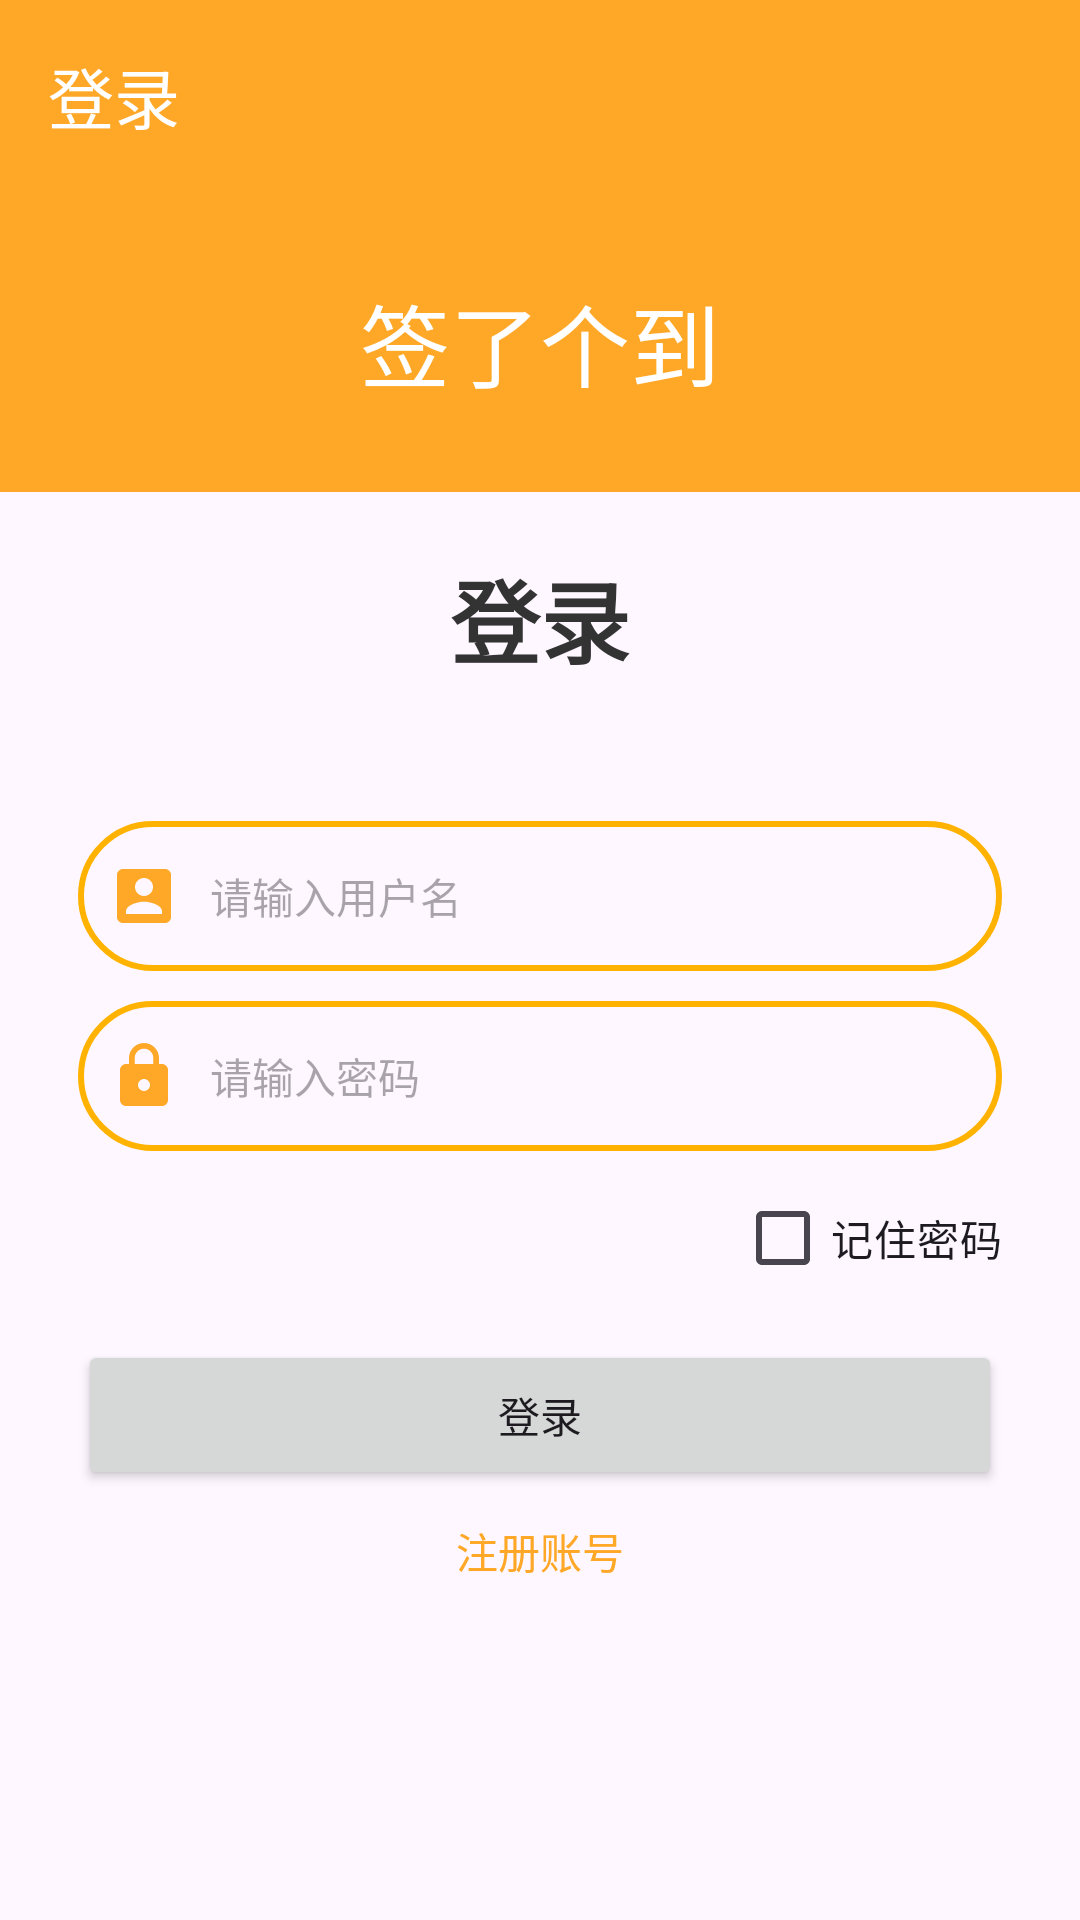

Where to tap for icons on this 1080x1920 app screen, as (x=x, y=y):
account box: (x=144, y=896)
lock: (x=144, y=1074)
